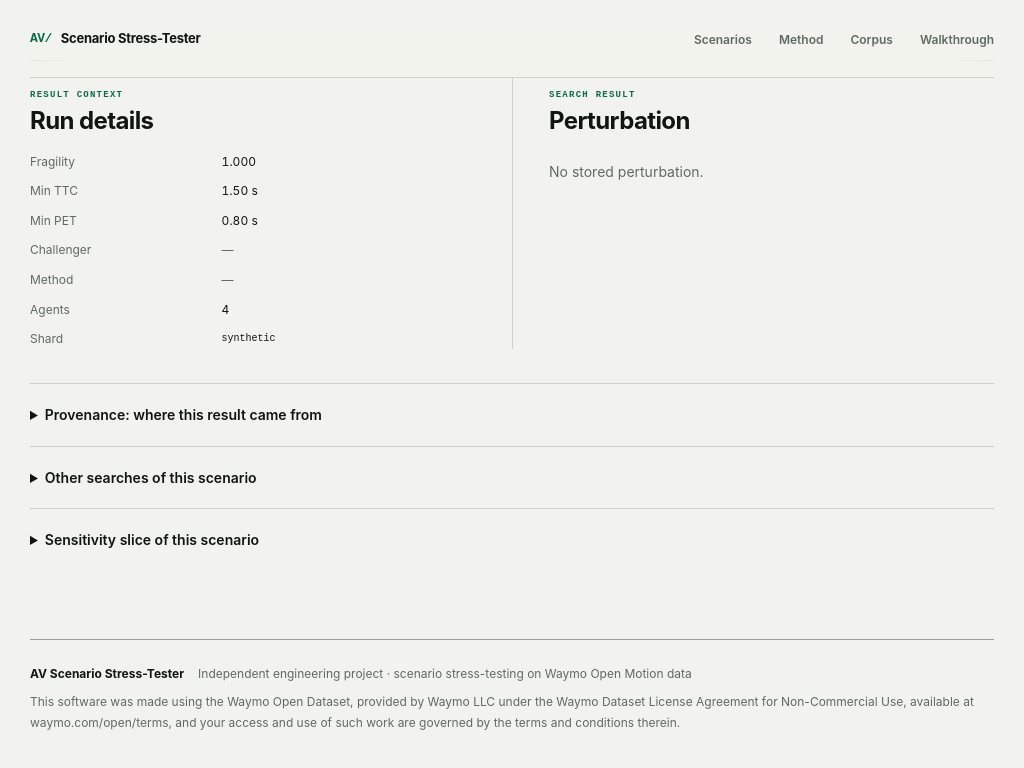
Scenario: asking for the trace › says it is loading, and shows an error with a retry when the request fails without taking the panel down
(page scrolled)
Click the heading "Provenance: where this result came from": (183, 414) x1=45 y1=406 x2=322 y2=423
(page scrolled)
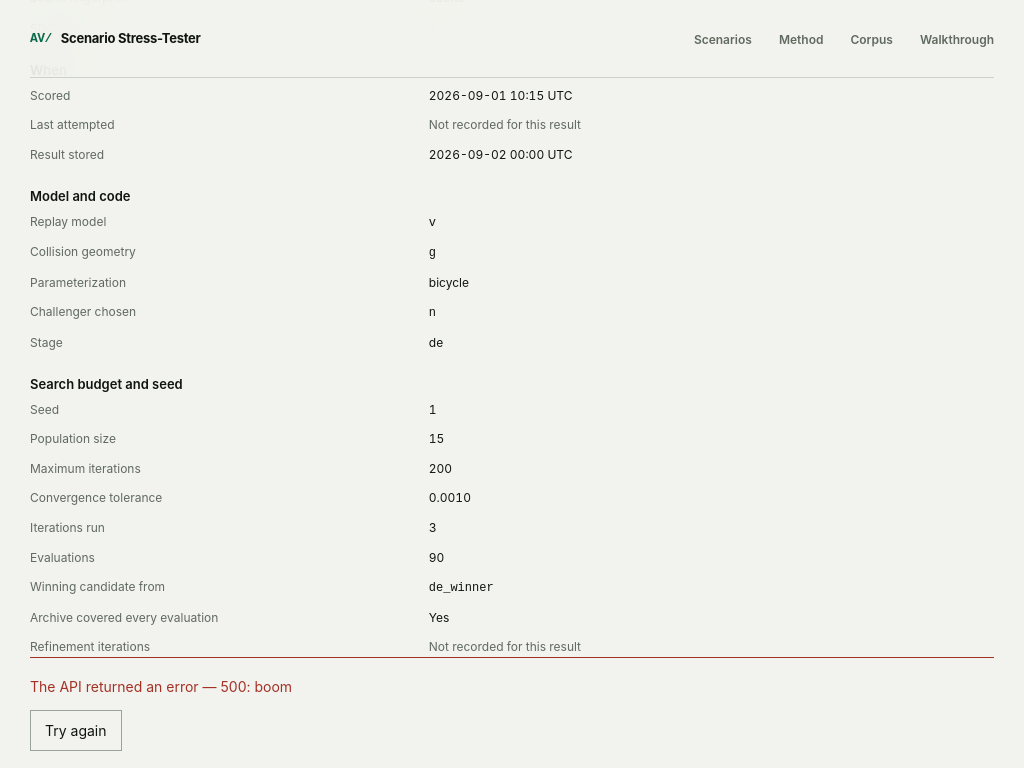
Expected: the button "Try again" is shown, x1=30 y1=710 x2=122 y2=751
Expected: the heading "Search budget and seed" is shown, x1=30 y1=376 x2=183 y2=392
